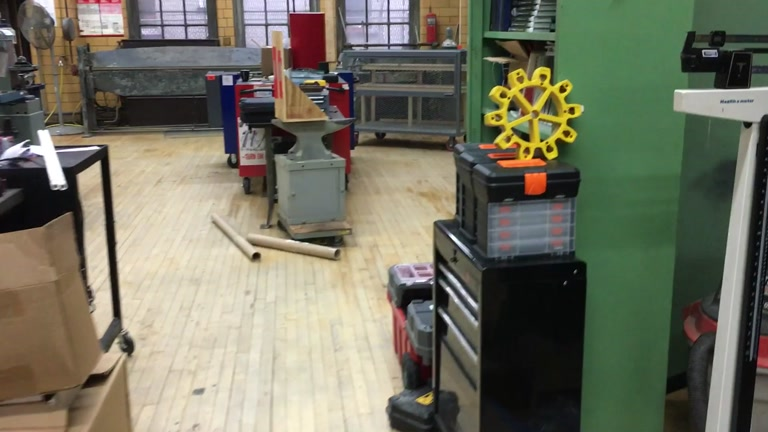gear: (484, 65, 580, 162)
